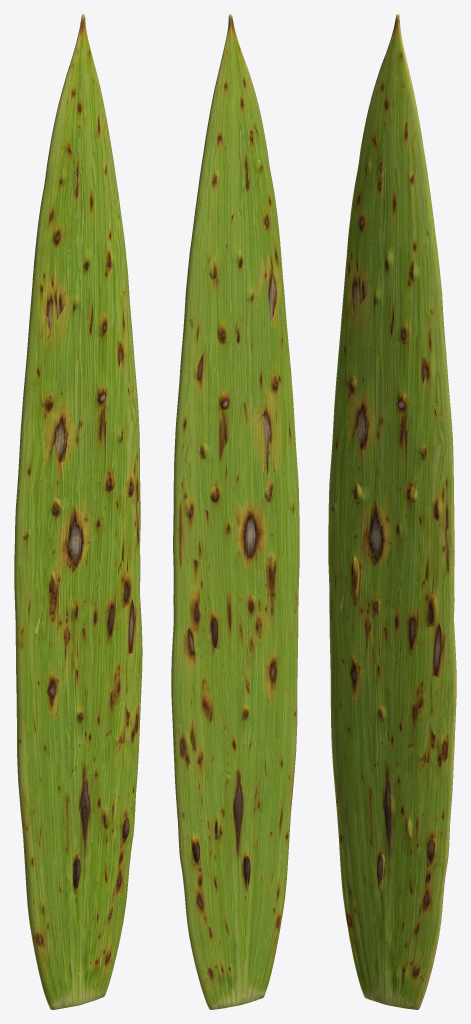
The model's file is rice_brown_spot.glb.
3 renders of one model, left to right at view 1: azimuth 30°, elevation 25°; view 2: azimuth 210°, elevation 25°; view 3: azimuth 330°, elevation 25°, orthographic.
Visible parts, largest first — view 1: rice_brown_spot; view 2: rice_brown_spot; view 3: rice_brown_spot.
Part boxes in pixels (x1,y1,x2,y2): rice_brown_spot: (14, 14, 142, 1009); rice_brown_spot: (171, 14, 299, 1009); rice_brown_spot: (328, 14, 456, 1009).
Size of the model in its own units: 0.1348 by 1 by 0.03.
1 material, 1 textured.
